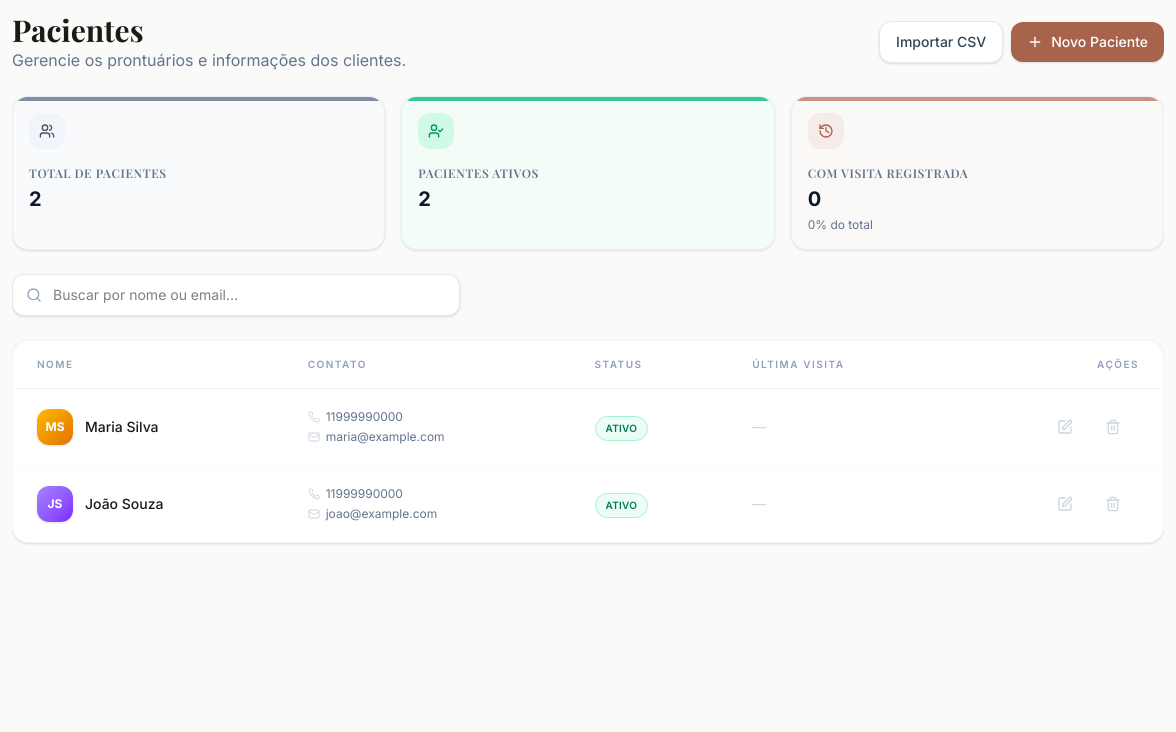
Patients — listagem e busca › filtra client-side por nome
This screenshot has width=1176, height=732.
Type "joão" into the field with placeholder "Buscar por nome ou email..." at (236, 295), box 12,274 -> 460,316
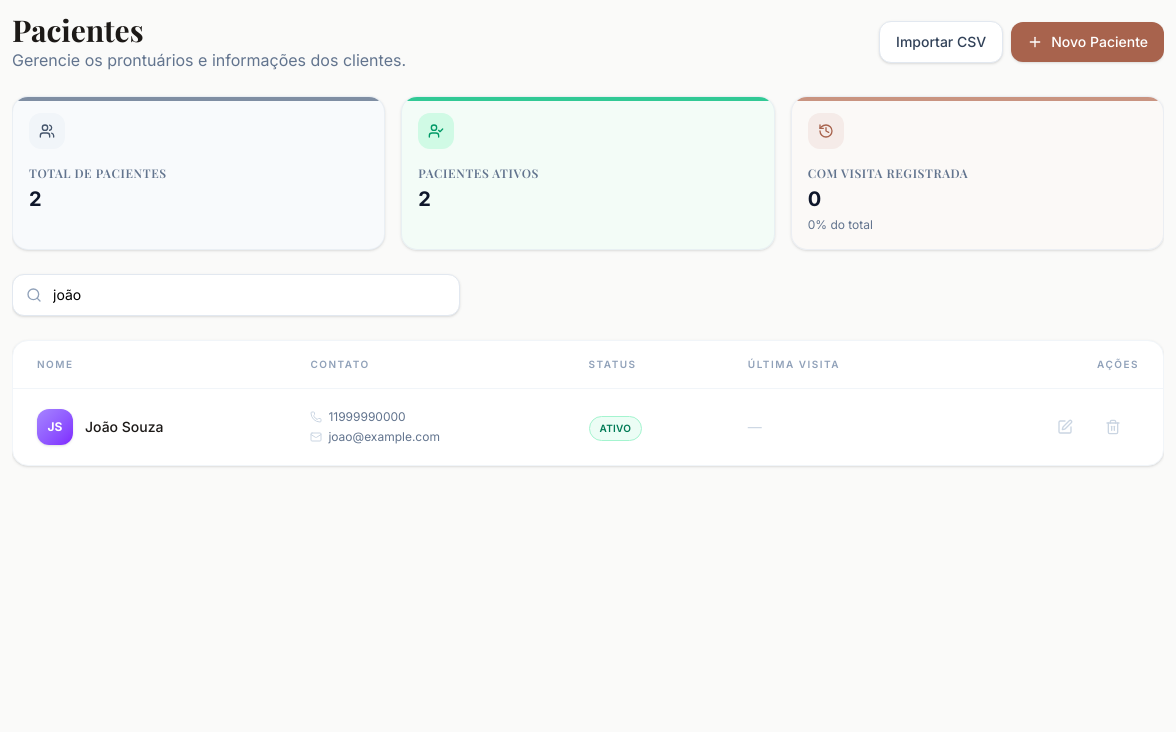
Expected: the text "João Souza" is shown, 85,417 -> 164,437
Expected: the link "Maria Silva" is gone
